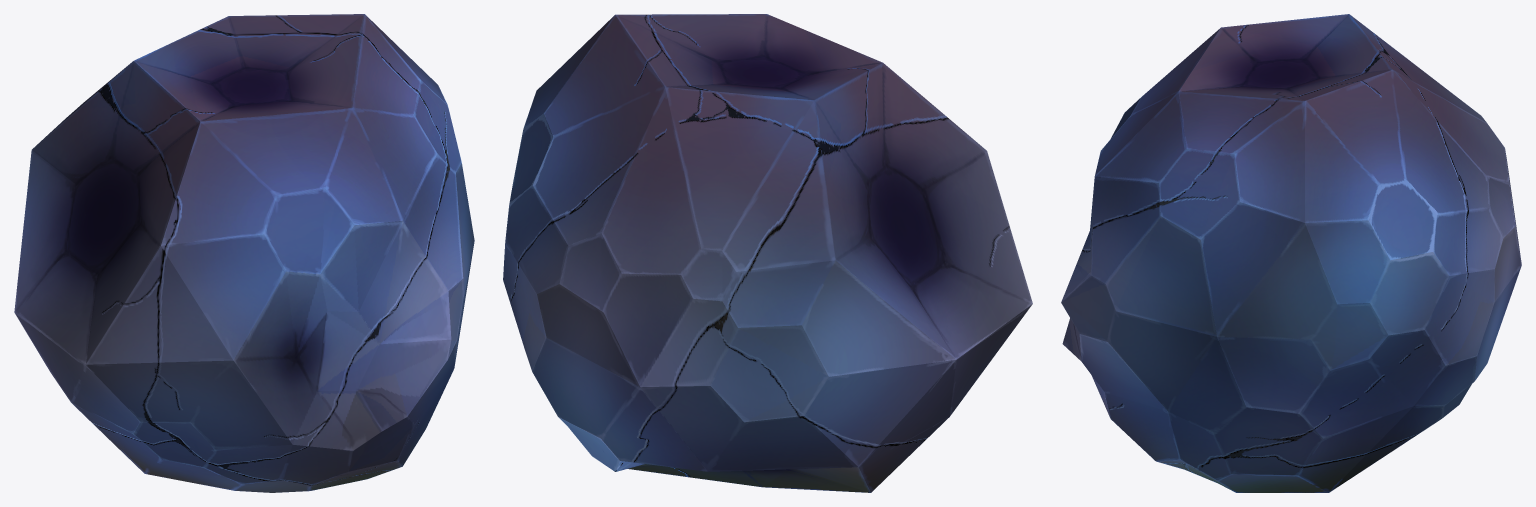
The model's file is asteroid1_new_1metr.fbx.
3 views of the same model, side by side, from view 1: azimuth 30°, elevation 25°; view 2: azimuth 150°, elevation 25°; view 3: azimuth 270°, elevation 25° (orthographic). The views are drawn at different scales.
Parts seen in each view (by area): view 1: Icosphere; view 2: Icosphere; view 3: Icosphere.
Boxes of the visible parts, bbox=[...] form: Icosphere: bbox=[14, 14, 474, 492]; Icosphere: bbox=[503, 14, 1032, 492]; Icosphere: bbox=[1061, 14, 1521, 492].
Size of the model in its own units: 100 by 100 by 100.
